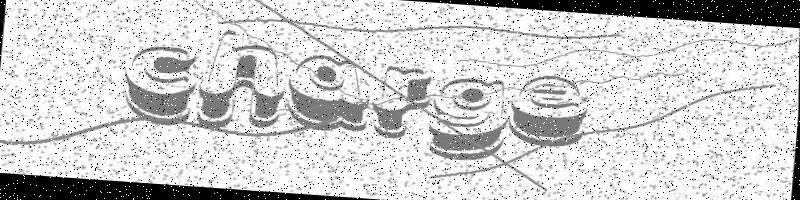a: (284, 50, 373, 133)
c: (122, 43, 201, 128)
e: (507, 72, 591, 150)
g: (426, 74, 511, 164)
h: (196, 27, 290, 134)
r: (368, 62, 433, 141)
